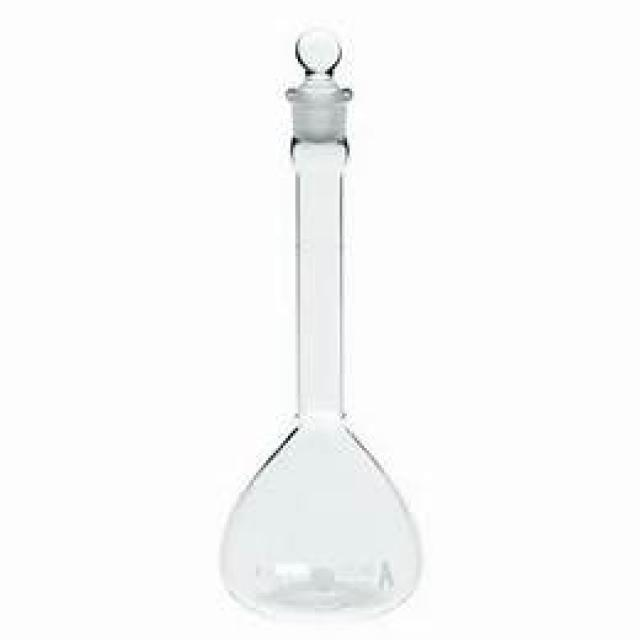Volumetric flask: (201, 21, 428, 621)
